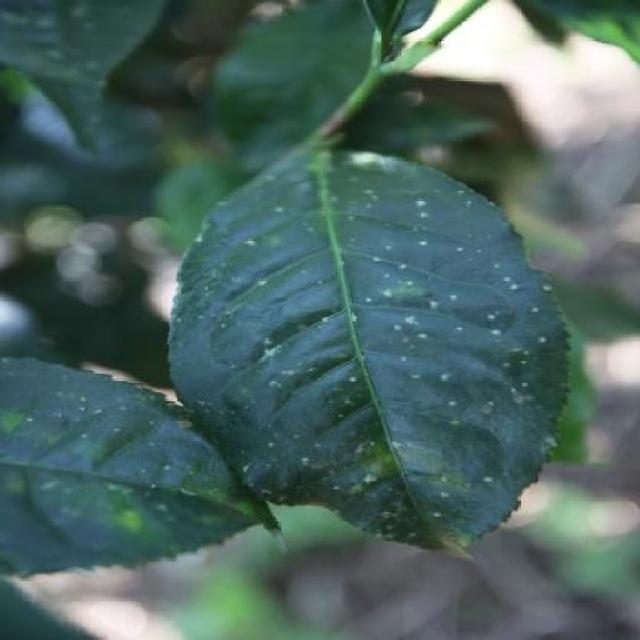White spot of tea: (174, 151, 554, 538)
